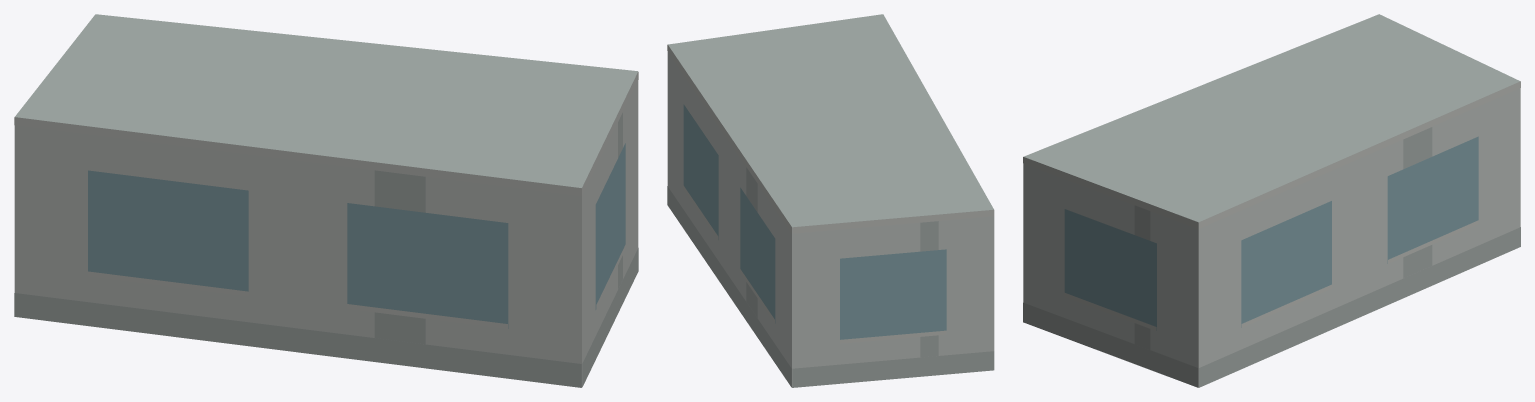
Rendered from residential-4d1fb1a7-a64a-46c0-8974-a97db860a924.glb.
The picture shows the model from 3 angles, left to right: view 1: azimuth 30°, elevation 25°; view 2: azimuth 150°, elevation 25°; view 3: azimuth 270°, elevation 25°; orthographic projection. The views are drawn at different scales.
Visible parts, largest first — view 1: residential-4d1fb1a7-a64a-46c0-8974-a97db860a924.tmp; view 2: residential-4d1fb1a7-a64a-46c0-8974-a97db860a924.tmp; view 3: residential-4d1fb1a7-a64a-46c0-8974-a97db860a924.tmp.
Boxes of the visible parts, x1,y1,x2,y2 form: residential-4d1fb1a7-a64a-46c0-8974-a97db860a924.tmp: (14,14,638,387); residential-4d1fb1a7-a64a-46c0-8974-a97db860a924.tmp: (667,14,994,387); residential-4d1fb1a7-a64a-46c0-8974-a97db860a924.tmp: (1023,14,1520,387).
Size of the model in its own units: 8.24 by 3.05 by 8.31.
